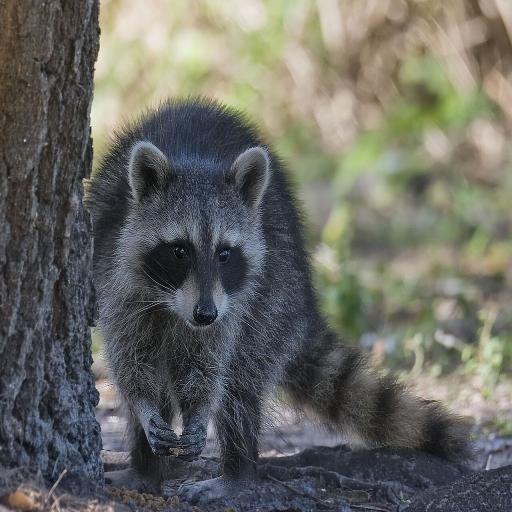raccoon: (87, 100, 467, 499)
